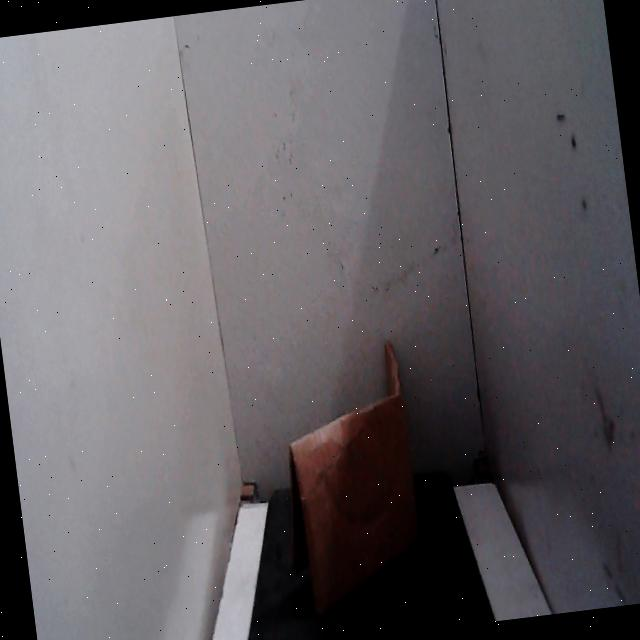papel: (261, 323, 441, 626)
